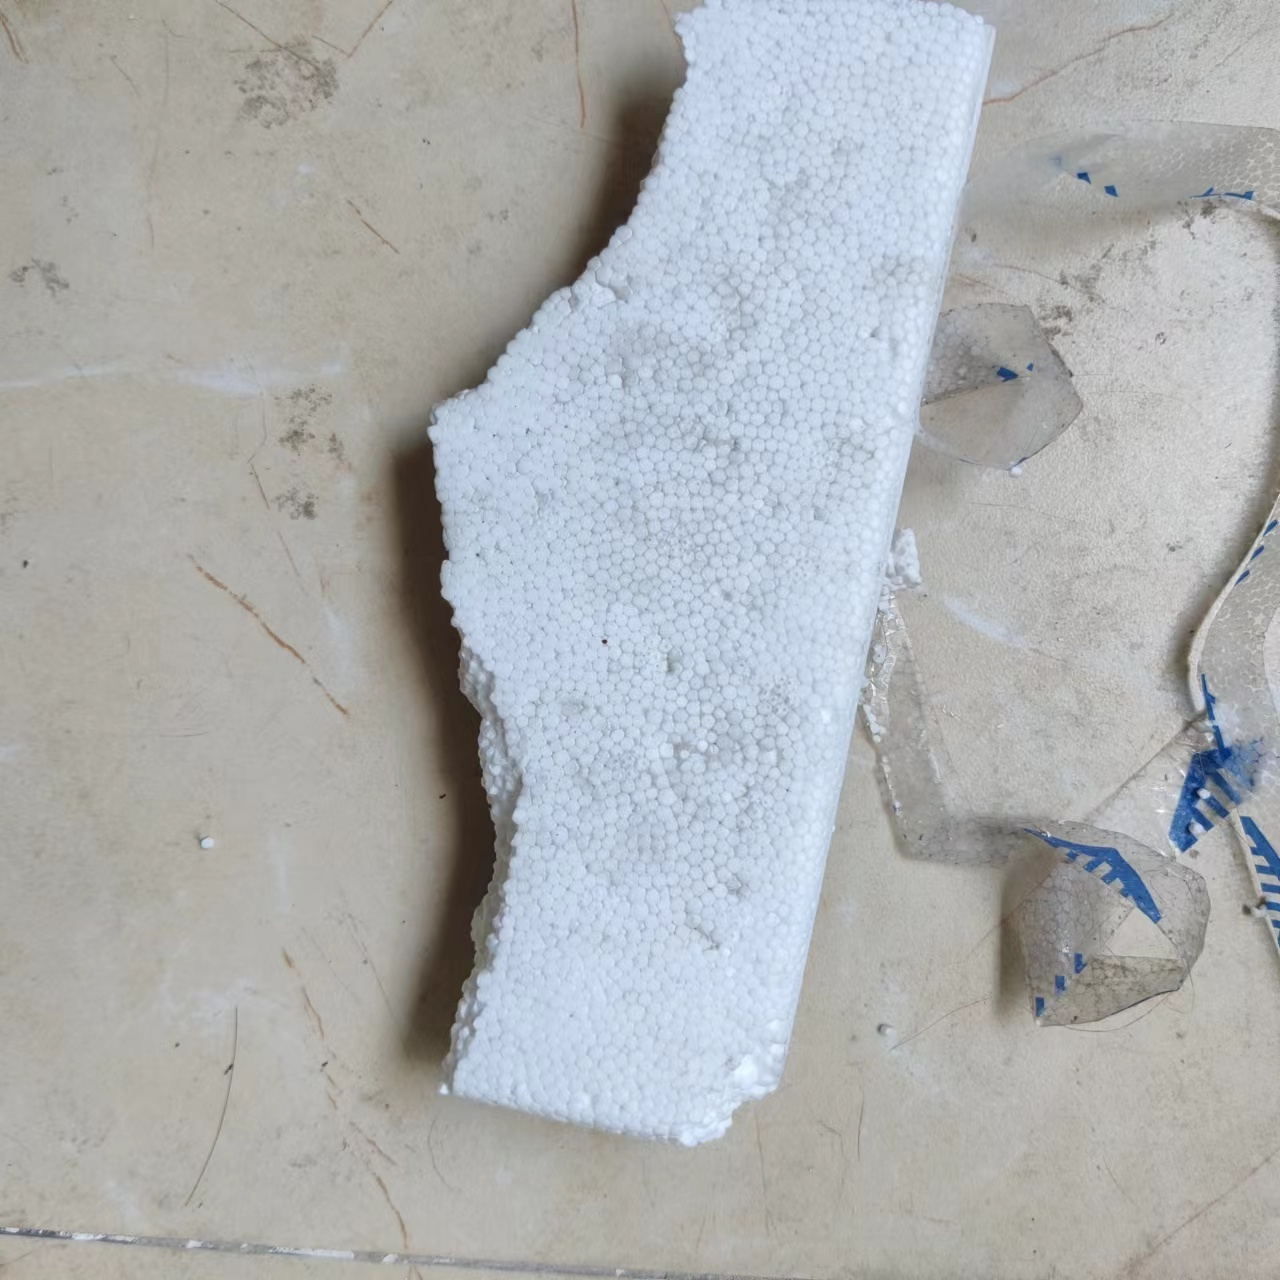5/可回收垃圾/泡沫: (423, 1, 999, 1148)
